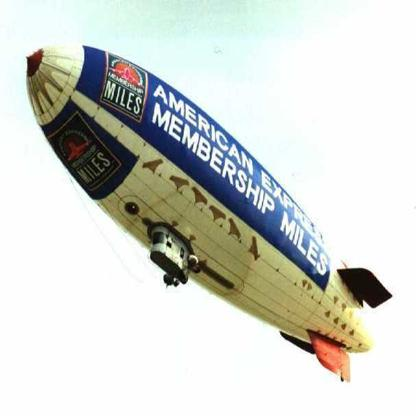Airship: (25, 42, 393, 386)
